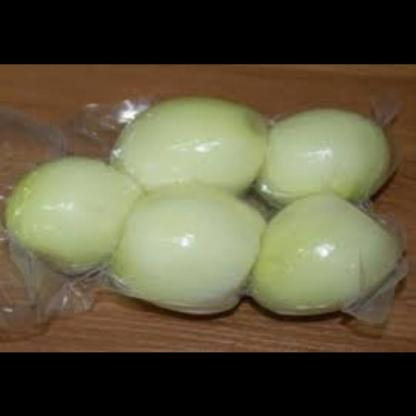onion: (21, 87, 398, 318)
